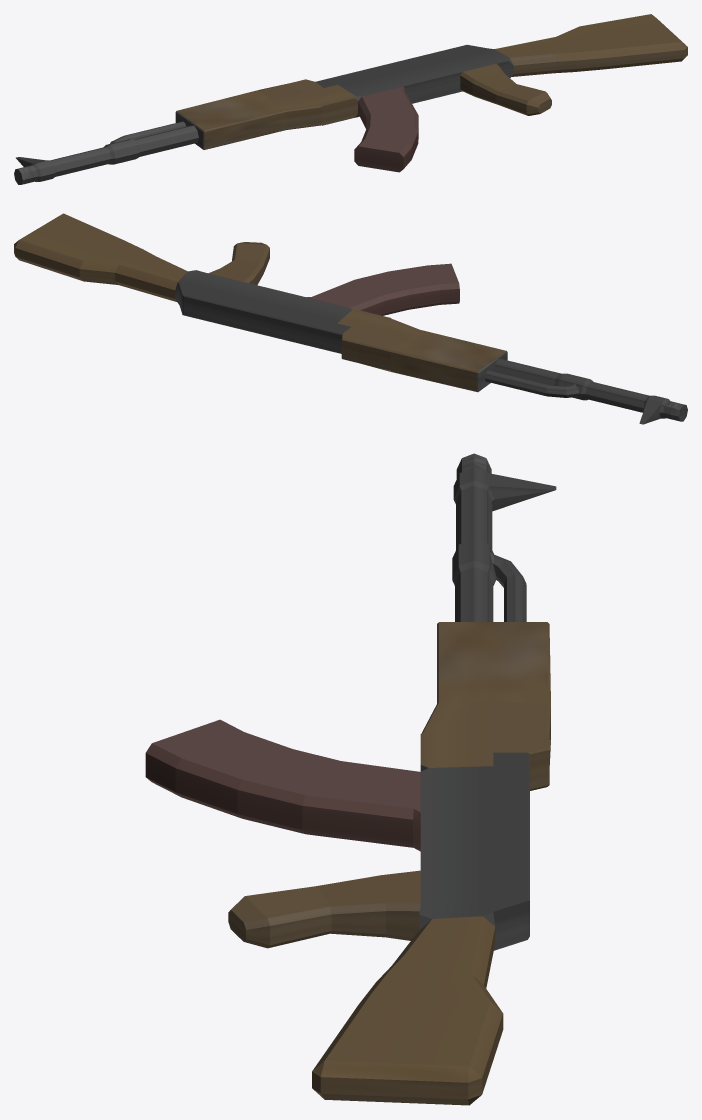
The picture shows the model from 3 angles, top to bottom: view 1: azimuth 30°, elevation 25°; view 2: azimuth 150°, elevation 25°; view 3: azimuth 270°, elevation 25°; orthographic projection. The views are drawn at different scales.
Parts seen in each view (by area): view 1: AK12эталон для экспорта; view 2: AK12эталон для экспорта; view 3: AK12эталон для экспорта.
Part boxes in pixels (x1,y1,x2,y2): AK12эталон для экспорта: [14, 14, 687, 184]; AK12эталон для экспорта: [14, 213, 687, 424]; AK12эталон для экспорта: [145, 453, 556, 1105].
Size of the model in its own units: 82.36 by 2.59 by 22.99.
